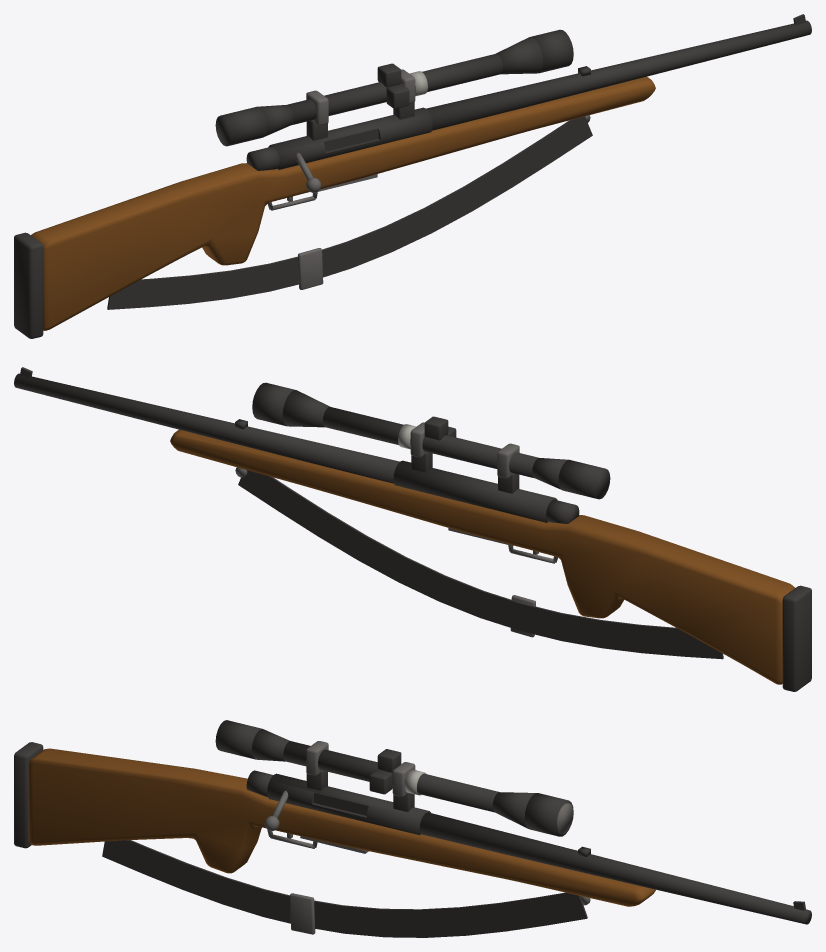
File: gun_rifle_scoped.glb
3 renders of one model, top to bottom at view 1: azimuth 30°, elevation 25°; view 2: azimuth 150°, elevation 25°; view 3: azimuth 330°, elevation 25°, orthographic.
Parts seen in each view (by area): view 1: stock, barrel, receiver, scope_tube, pad, eyepiece, objective_bell, sling_3, sling_1, sling_0, sling_2, objective (+11 smaller); view 2: stock, barrel, receiver, scope_tube, pad, eyepiece, objective_bell, sling_3, sling_2, sling_4, objective, sling_1 (+10 smaller); view 3: stock, barrel, receiver, scope_tube, pad, objective, sling_0, sling_1, eyepiece, sling_3, sling_9, sling_10 (+16 smaller).
Part boxes in pixels (<box>): stock: <box>31,76,655,330</box>; barrel: <box>426,20,811,130</box>; receiver: <box>268,107,432,169</box>; scope_tube: <box>287,54,502,125</box>; pad: <box>14,232,43,338</box>; eyepiece: <box>215,107,267,146</box>; objective_bell: <box>496,37,543,74</box>; sling_3: <box>424,186,472,233</box>; sling_1: <box>503,138,551,187</box>; sling_0: <box>542,116,592,161</box>; sling_2: <box>464,163,512,211</box>; objective: <box>529,29,573,73</box>; stock: <box>170,429,795,684</box>; barrel: <box>14,373,399,483</box>; receiver: <box>393,460,557,522</box>; scope_tube: <box>323,407,538,478</box>; pad: <box>782,585,811,691</box>; eyepiece: <box>558,460,610,499</box>; objective_bell: <box>282,390,329,427</box>; sling_3: <box>358,536,406,582</box>; sling_2: <box>318,512,366,559</box>; sling_4: <box>399,557,445,601</box>; objective: <box>252,382,296,426</box>; sling_1: <box>279,487,327,536</box>; stock: <box>28,748,655,906</box>; barrel: <box>419,812,811,924</box>; receiver: <box>267,773,430,835</box>; scope_tube: <box>283,741,499,812</box>; pad: <box>14,742,43,848</box>; objective: <box>524,793,573,836</box>; sling_0: <box>536,892,587,925</box>; sling_1: <box>497,897,546,931</box>; eyepiece: <box>215,720,262,759</box>; sling_3: <box>418,907,465,937</box>; sling_9: <box>182,863,225,904</box>; sling_10: <box>142,847,186,889</box>.
Bounding box in the file's own units: 1.09 × 0.26 × 0.0817.
